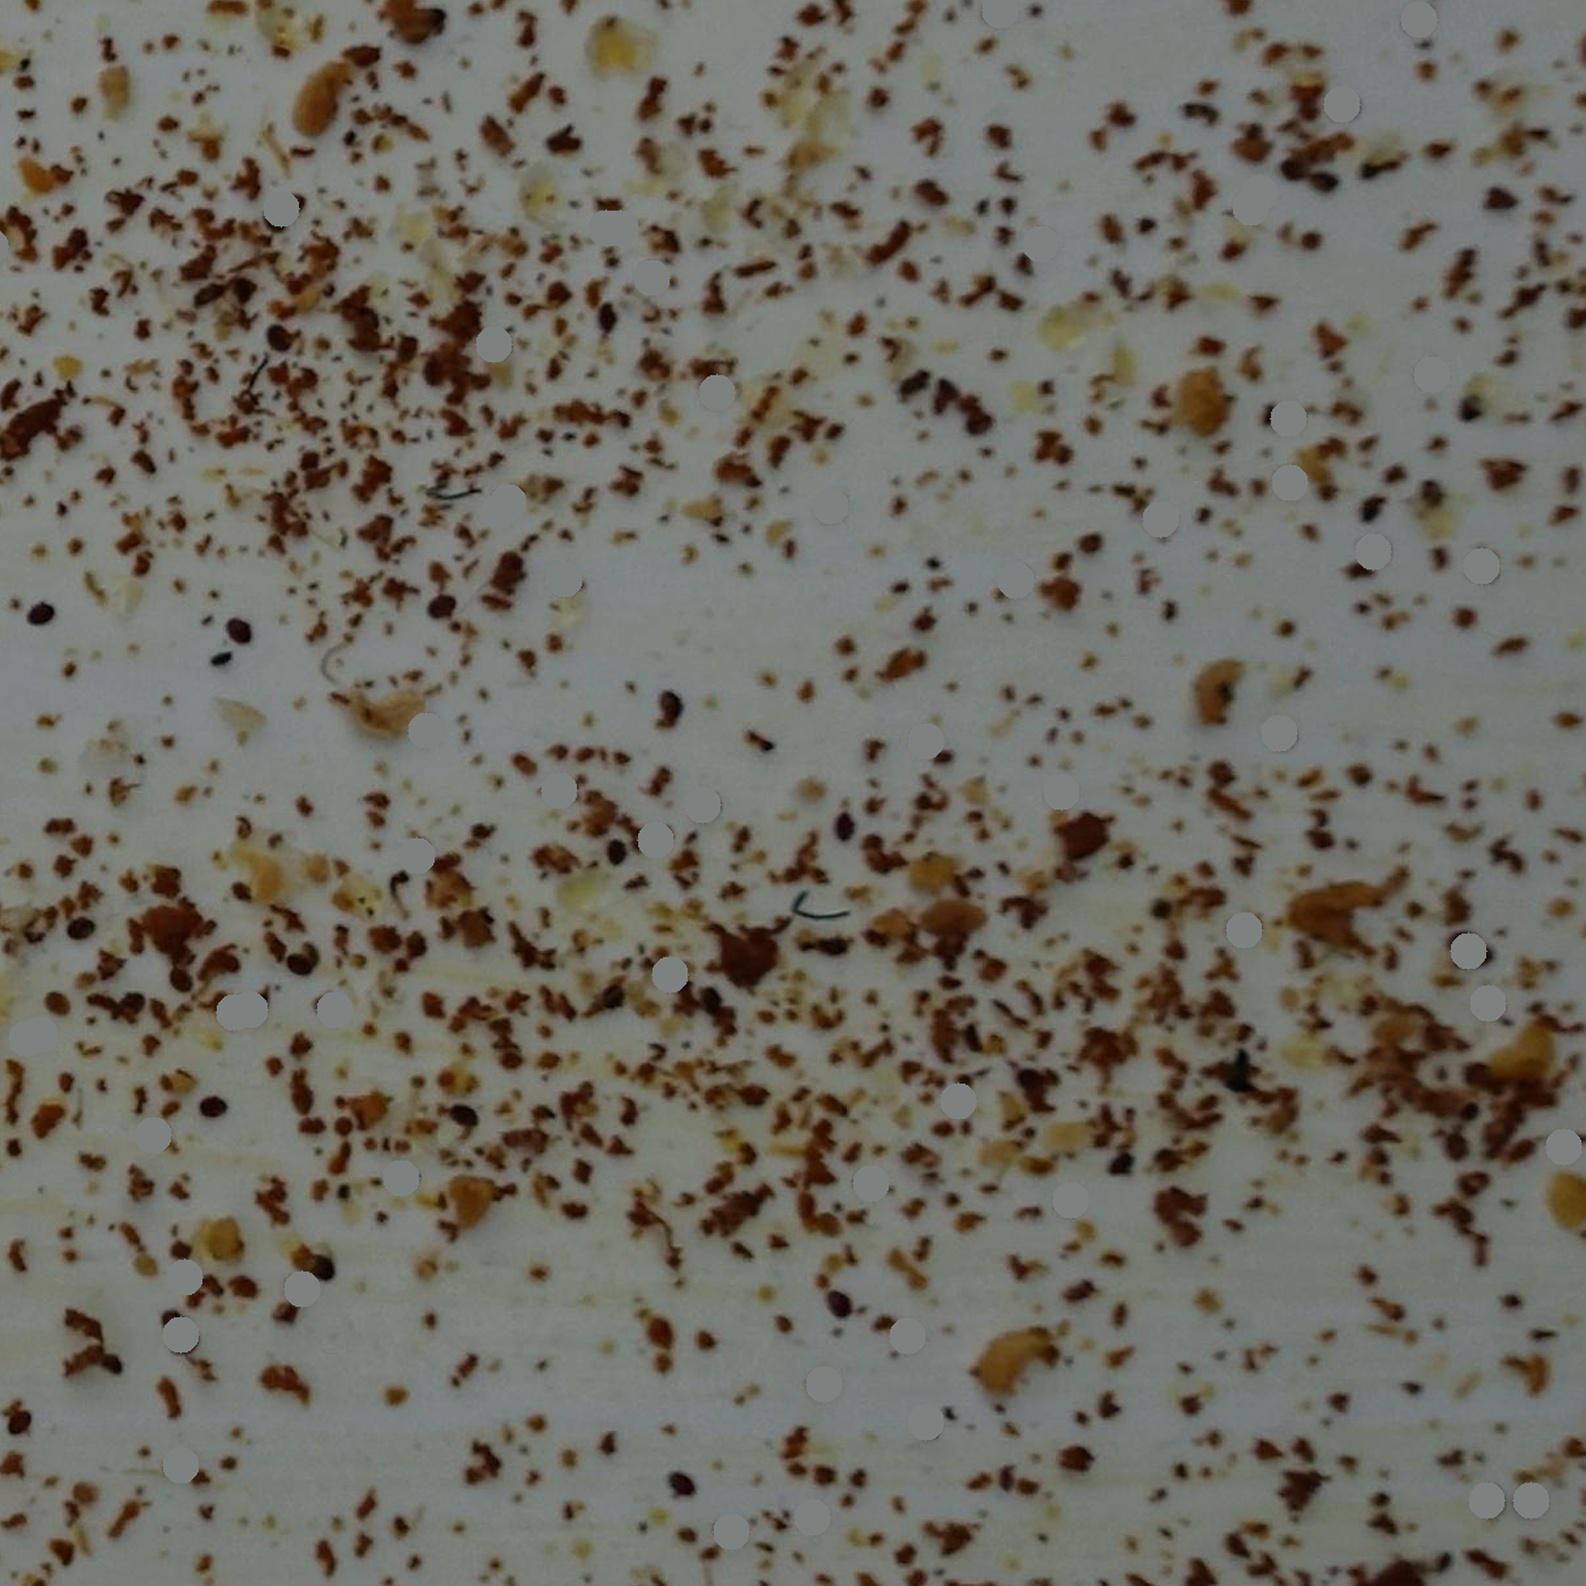Varroa: (158, 959, 203, 1002), (110, 980, 152, 1022), (446, 1102, 476, 1131), (28, 601, 51, 626), (658, 696, 683, 719), (9, 1407, 30, 1431), (289, 947, 309, 972), (229, 619, 251, 640), (431, 593, 453, 614), (834, 819, 855, 839), (269, 322, 289, 344), (829, 1293, 853, 1311), (672, 1473, 693, 1493), (73, 916, 91, 937), (211, 1098, 224, 1110)
